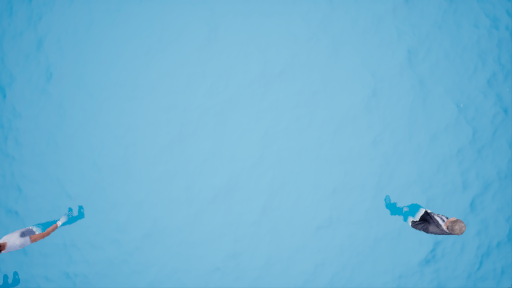person: (387, 190, 468, 240)
